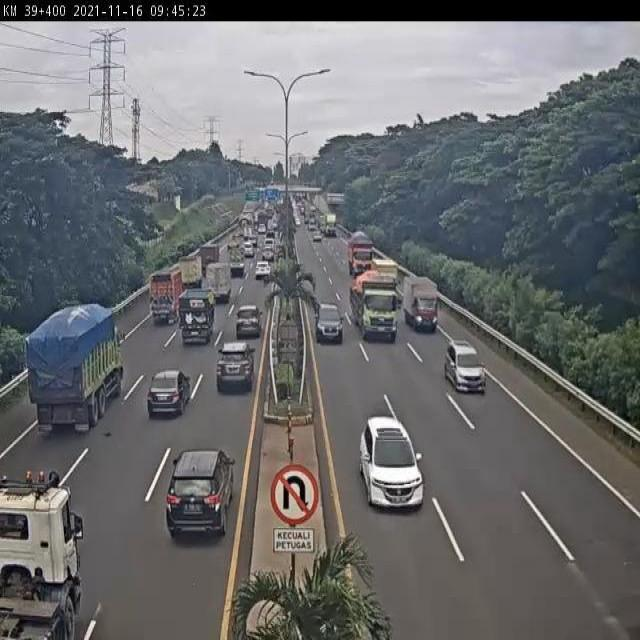car: (356, 417, 429, 512), (164, 451, 236, 538), (442, 341, 485, 392), (215, 343, 254, 392), (148, 372, 190, 415), (314, 300, 344, 345), (236, 306, 261, 338)
small truck: (403, 273, 439, 335), (203, 263, 233, 300), (178, 256, 201, 291)
truck-l-: (26, 308, 124, 427), (347, 273, 399, 340)
truck-m-: (180, 291, 215, 344), (148, 272, 181, 327)
truck-xl-: (1, 480, 83, 640)
